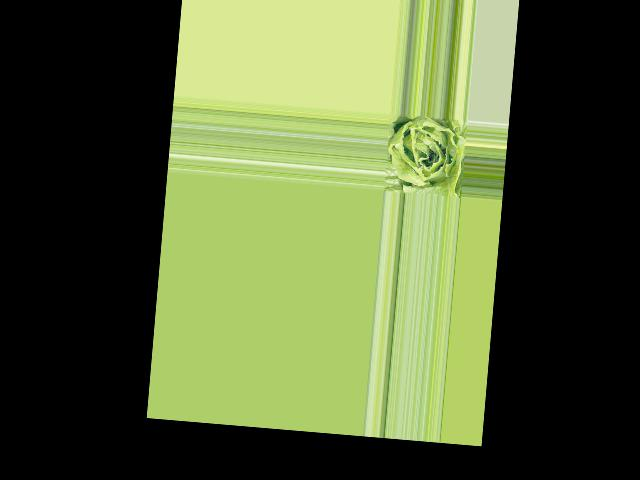lettuce: (384, 114, 466, 198)
